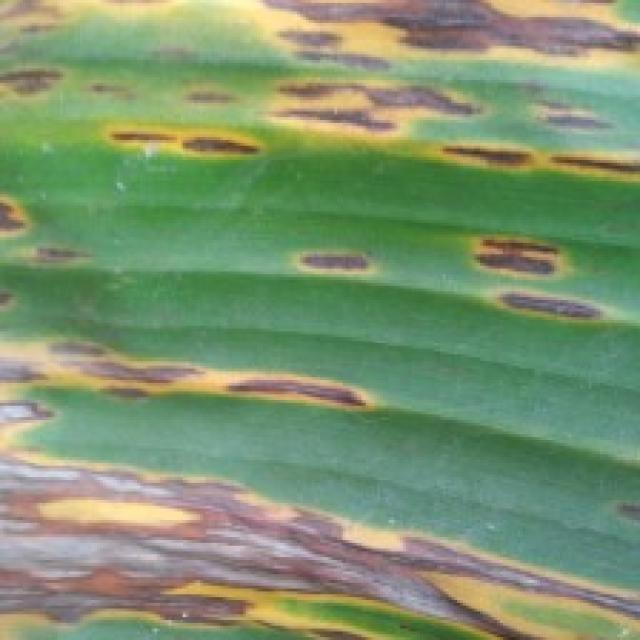Early_leaf_spot: (0, 429, 640, 640), (220, 0, 640, 200), (0, 300, 381, 456), (444, 208, 618, 334), (90, 98, 276, 186), (0, 0, 96, 132), (0, 174, 86, 314), (266, 243, 396, 297), (601, 473, 640, 532)
